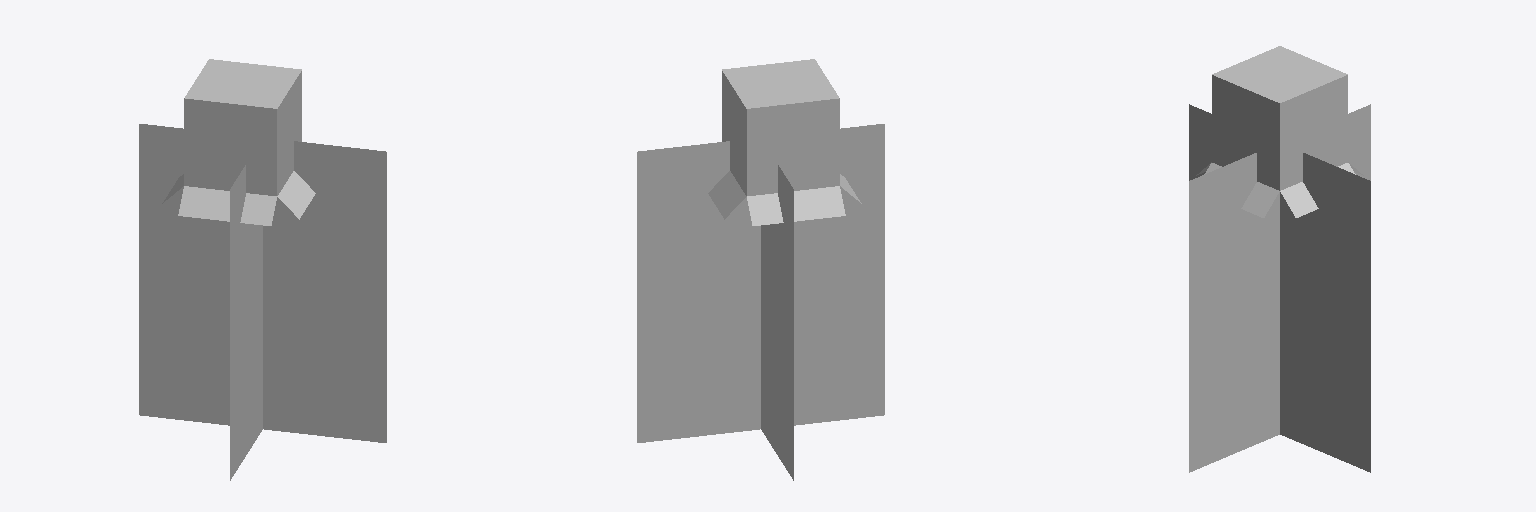
Rendered from crop_heartofwal_stage1.obj.
3 renders of one model, left to right at view 1: azimuth 30°, elevation 25°; view 2: azimuth 150°, elevation 25°; view 3: azimuth 270°, elevation 25°, orthographic.
Visible parts, largest first — view 1: cube_3, cube_5, cube_4, cube_8, cube_7; view 2: cube_4, cube_5, cube_3, cube_6, cube_9; view 3: cube_3, cube_4, cube_5, cube_7, cube_9.
Part boxes in pixels (x1,y1,x2,y2): cube_3: (139, 124, 386, 442); cube_5: (184, 59, 301, 195); cube_4: (230, 165, 262, 480); cube_8: (178, 186, 276, 225); cube_7: (277, 171, 315, 219); cube_4: (637, 124, 884, 442); cube_5: (722, 59, 839, 195); cube_3: (761, 165, 793, 480); cube_6: (747, 186, 845, 225); cube_9: (708, 171, 746, 219); cube_3: (1189, 104, 1370, 472); cube_4: (1189, 104, 1370, 472); cube_5: (1212, 46, 1347, 190); cube_7: (1204, 163, 1279, 217); cube_9: (1280, 163, 1355, 217).
Size of the model in its own units: 0.3848 by 0.75 by 0.3536.